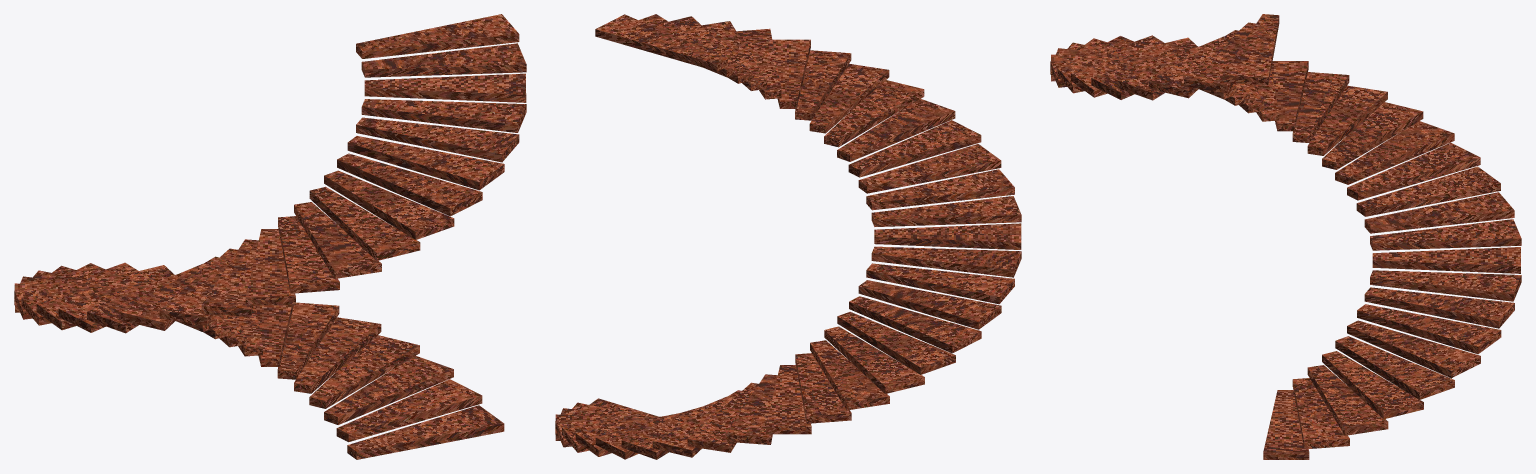
Rendered from Stairs.gltf.
3 views of the same model, side by side, from view 1: azimuth 30°, elevation 25°; view 2: azimuth 150°, elevation 25°; view 3: azimuth 270°, elevation 25° (orthographic). The views are drawn at different scales.
Visible parts, largest first — view 1: Circle; view 2: Circle; view 3: Circle.
Part boxes in pixels (x1,y1,x2,y2): Circle: (14, 14, 526, 459); Circle: (555, 14, 1021, 459); Circle: (1050, 14, 1521, 459).
Bounding box in the file's own units: 1.99 × 1.78 × 1.99.
1 material, 1 textured.
